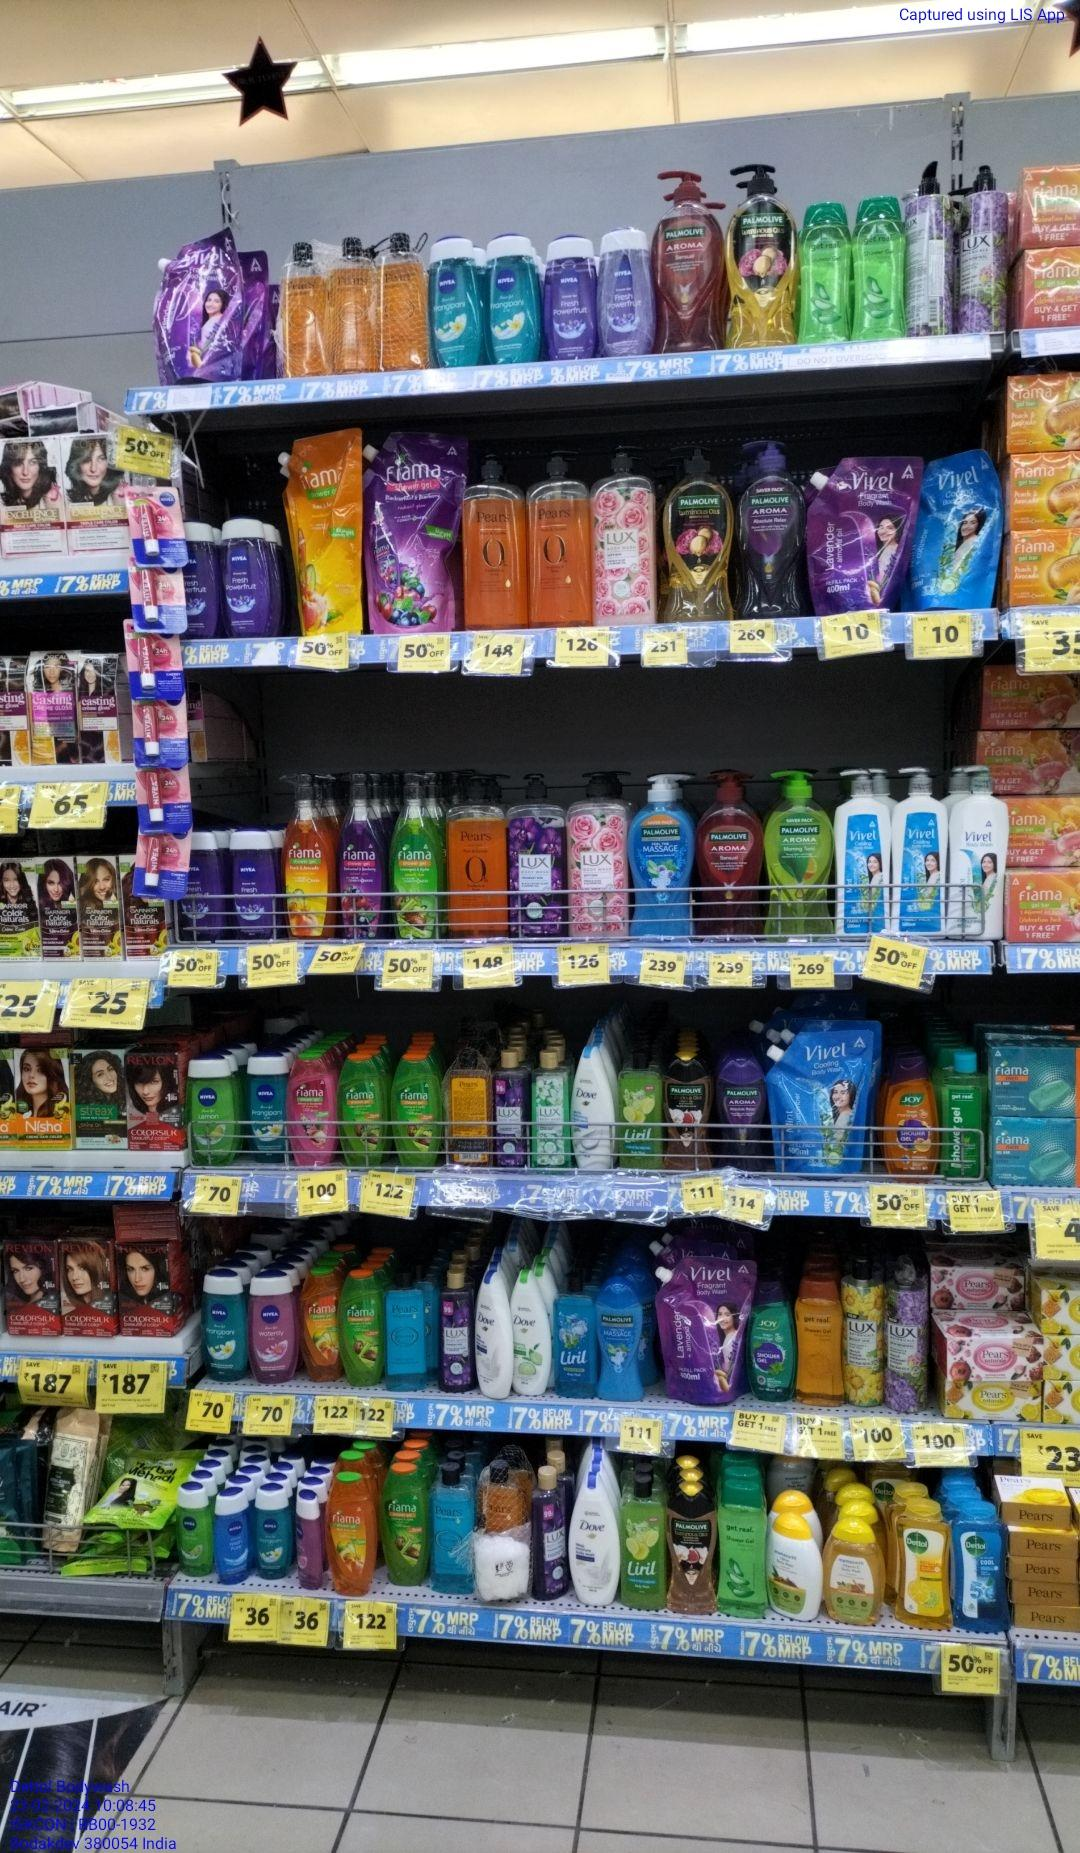Dettol_Bodywash_Cool: (957, 1510, 1012, 1631)
Dettol_Bodywash_Refresh: (896, 1509, 951, 1632)
Dove_Deep_Moisture_Body_Wash_250ML: (570, 1475, 617, 1606), (477, 1272, 510, 1399)
Dove_Gentle_Exfoliating_Body_Wash_250ML: (572, 1051, 613, 1171)
Dove_Refreshing_Body_Wash_250ML: (512, 1270, 550, 1394)
Fiama_Shower_Gel_Lemongrass_and_Jojoba_250ML: (334, 1055, 383, 1164), (381, 1466, 424, 1584), (393, 1054, 438, 1166), (339, 1270, 382, 1385)
Fiama_Shower_Gel_Patchouli_and_Macadamia_250ML: (291, 1058, 333, 1167)
Fiama_Shower_Gel_Peach_and_Avocado_250ML: (328, 1478, 373, 1597), (301, 1271, 339, 1383)
Get_Real_Shower_Gel_Moisturising_Glycerin_300ML: (795, 1277, 845, 1407)
Joy_Shower_Gel_Mandarin_and_Lemongrass_250ML: (882, 1059, 940, 1184)
Joy_Shower_Gel_Mint_and_Eucalyptus_250ML: (748, 1279, 792, 1402)
Liril_Cooling_Mint_Body_Wash_250ML: (553, 1273, 595, 1398)
Liril_Lime_and_Tea_Tree_Oil_Body_Wash_250ML: (621, 1479, 666, 1610), (618, 1050, 662, 1171)
Lux_Black_Orchid_Scent_and_Juniper_Oil_Body_Wash_245ML: (532, 1467, 564, 1600), (441, 1271, 473, 1394), (492, 1051, 525, 1167)
Lux_Body_Wash_Skin_Detox_Freesia_Scent_and_Alove_Vera_245ML: (531, 1051, 570, 1169)
Nivea_Shower_Gel_Frangipani_and_Oil_250ML: (431, 234, 480, 369), (489, 235, 539, 362), (244, 1058, 288, 1162), (202, 1272, 243, 1383), (253, 1487, 287, 1581)
Nivea_Shower_Gel_Fresh_Powerfruit_250ML: (597, 227, 652, 355), (544, 234, 591, 356), (228, 830, 275, 939), (224, 519, 267, 631), (180, 522, 215, 637), (186, 833, 224, 938)
Nivea_Shower_Gel_Lemon_and_Oil_250ML: (186, 1059, 230, 1159), (176, 1488, 206, 1575)
Nivea_Shower_Gel_Waterlily_and_Oil_250ML: (251, 1275, 297, 1381)
Palmolive_Aroma_Moments_Feel_The_Massage_Shower_Gel_250ML: (598, 1281, 643, 1402)
Palmolive_Aroma_Relax_250ML: (719, 1059, 765, 1169)
Palmolive_Luminous_Oils_With_White_Orchid_Shower_Gel_250ML: (669, 1483, 717, 1615), (665, 1055, 711, 1171)
Pears_Pure_Glycerin_and_Mint_Extracts_Body_Wash_250ML: (431, 1466, 473, 1596), (387, 1272, 426, 1392)
